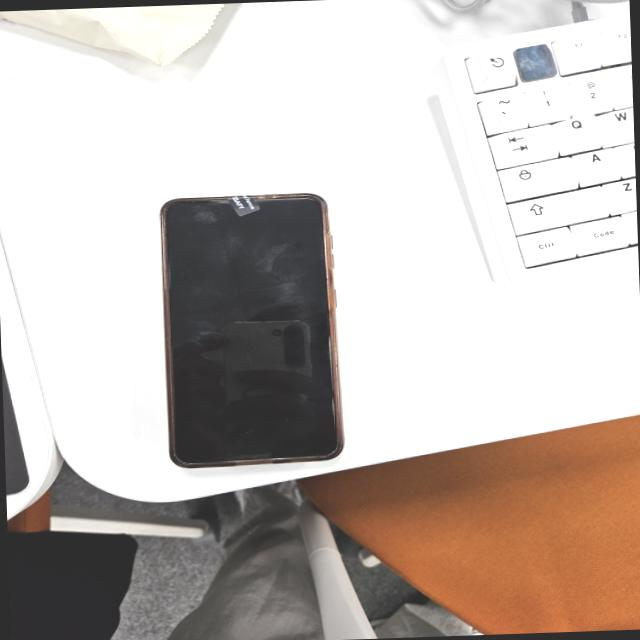phone: (154, 191, 345, 468)
sticker: (227, 194, 261, 217)
